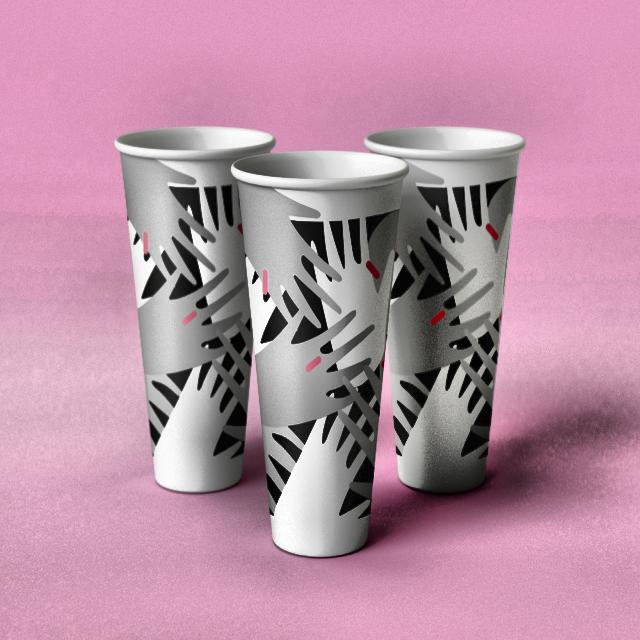Cup: (234, 149, 415, 569), (358, 118, 529, 512), (111, 118, 282, 508)
